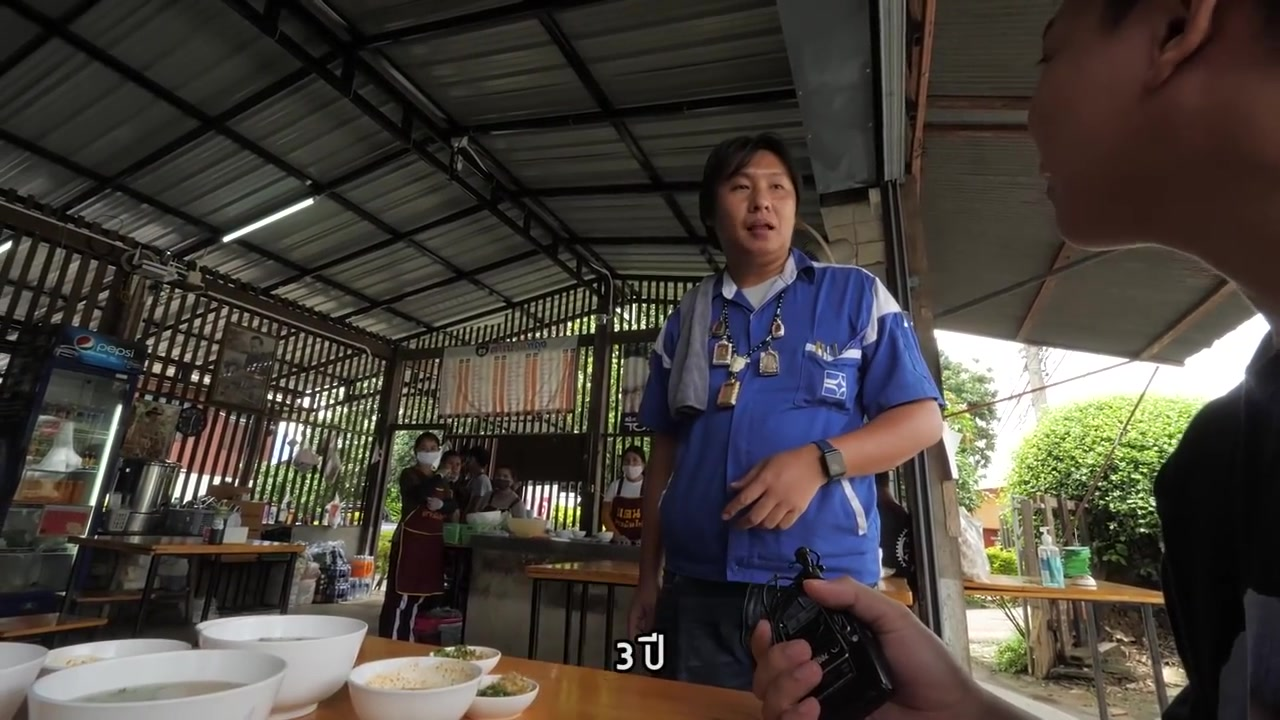text-label: (610, 626, 670, 675)
